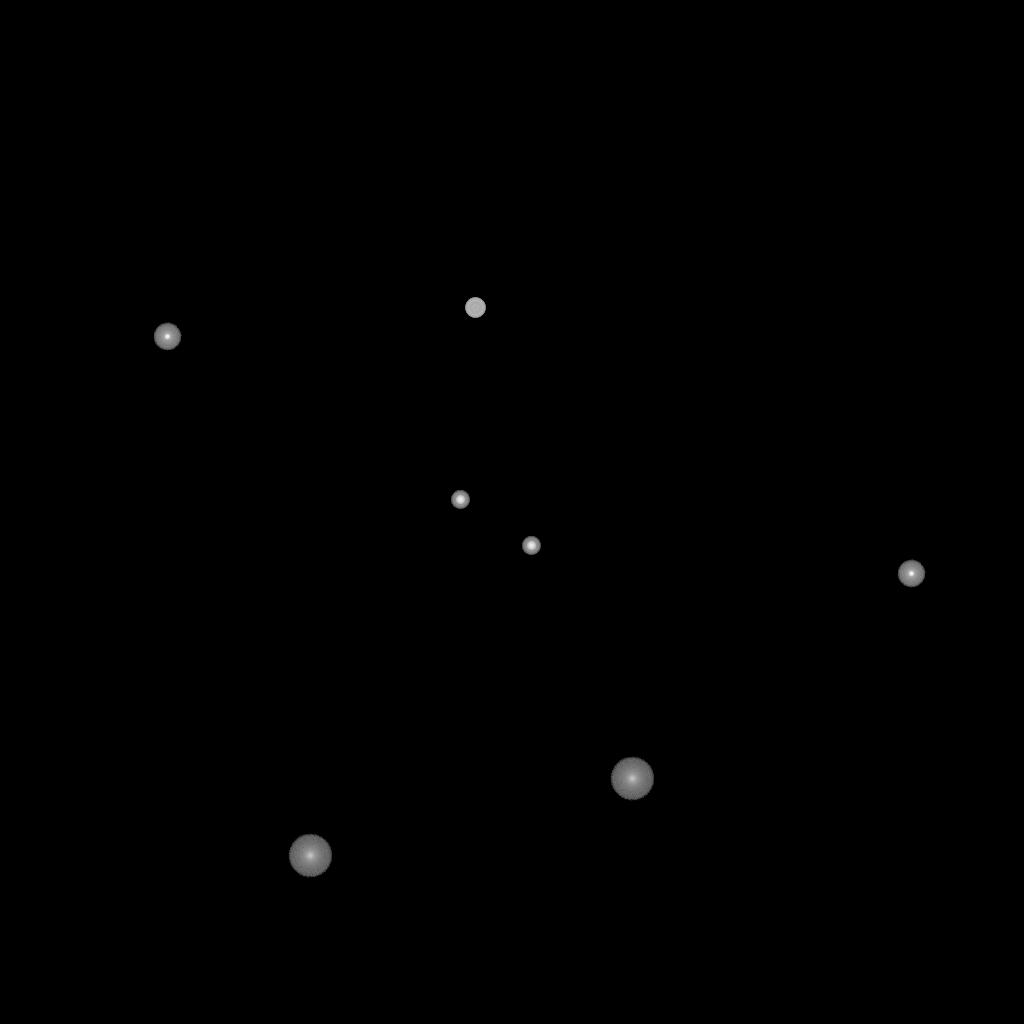depth:-10: (153, 323, 181, 351), (897, 560, 925, 588)
depth:-20: (522, 537, 540, 555), (451, 491, 469, 509)
depth:-40: (465, 298, 485, 318)
depth:10: (610, 757, 654, 801), (288, 834, 332, 878)
